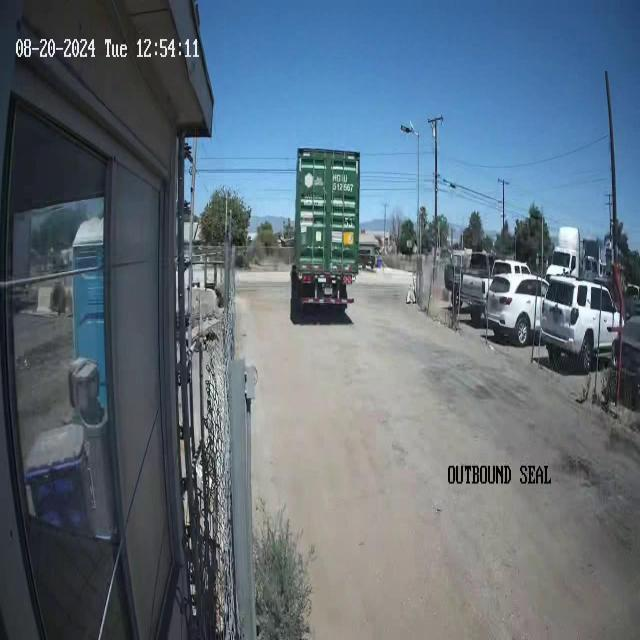TRUCK_OUT: (289, 146, 361, 324)
